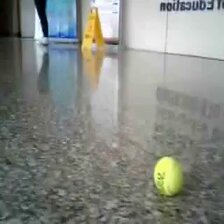tennis: (154, 156, 184, 196)
